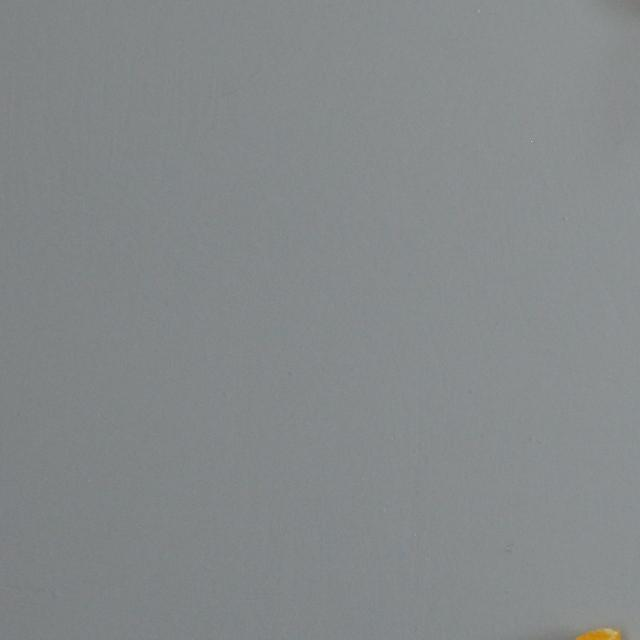pelicula: (552, 624, 636, 640)
